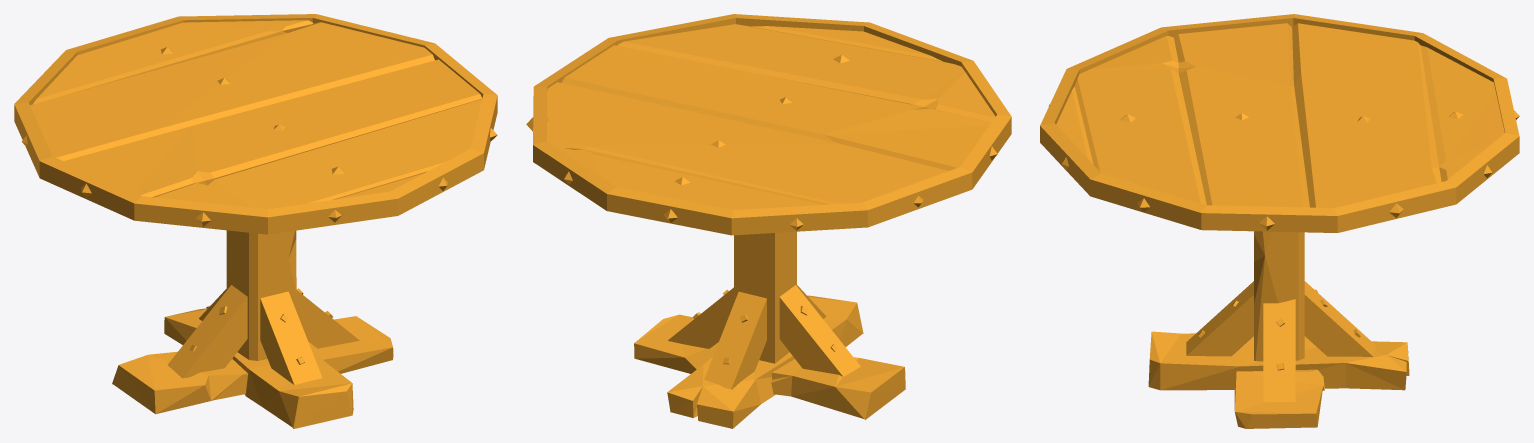
The model's file is SM_Table_Round_A_Fantasy.fbx.
3 renders of one model, left to right at view 1: azimuth 30°, elevation 25°; view 2: azimuth 150°, elevation 25°; view 3: azimuth 270°, elevation 25°, orthographic.
Parts seen in each view (by area): view 1: table-round-a-fantasy; view 2: table-round-a-fantasy; view 3: table-round-a-fantasy.
Boxes of the visible parts, bbox=[...] form: table-round-a-fantasy: bbox=[14, 14, 497, 428]; table-round-a-fantasy: bbox=[526, 14, 1011, 428]; table-round-a-fantasy: bbox=[1040, 14, 1519, 428].
Size of the model in its own units: 1.36 by 0.8176 by 1.36.
